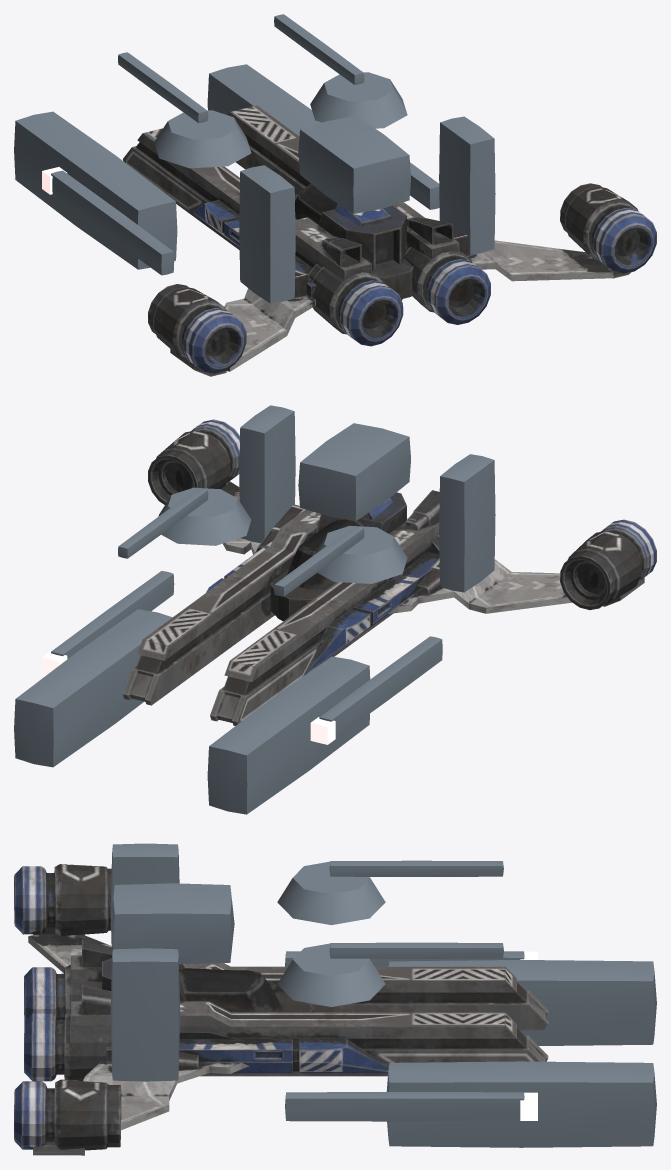
The model's file is story_nemesis.glb.
3 views of the same model, one above another, from view 1: azimuth 30°, elevation 25°; view 2: azimuth 150°, elevation 25°; view 3: azimuth 270°, elevation 25° (orthographic). The views are drawn at different scales.
Parts seen in each view (by area): view 1: story_nemesis; view 2: story_nemesis; view 3: story_nemesis.
Part boxes in pixels (left/top/right/bottom): story_nemesis: left=14, top=14, right=656, bottom=376; story_nemesis: left=14, top=405, right=656, bottom=814; story_nemesis: left=14, top=843, right=656, bottom=1155.
Bounding box in the file's own units: 1.43 × 0.5224 × 1.58.
3 materials, 1 textured.
